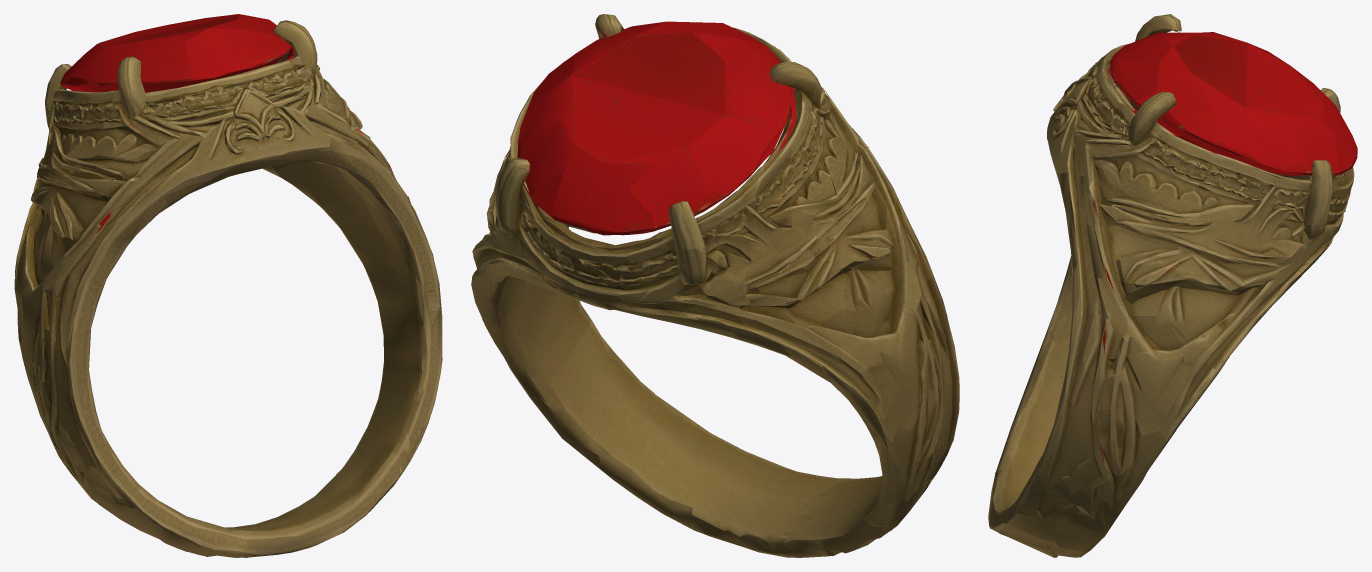
Rendered from flame_ring.fbx.
3 views of the same model, side by side, from view 1: azimuth 30°, elevation 25°; view 2: azimuth 150°, elevation 25°; view 3: azimuth 270°, elevation 25° (orthographic). The views are drawn at different scales.
Parts seen in each view (by area): view 1: flame_ring; view 2: flame_ring; view 3: flame_ring.
Boxes of the visible parts, x1=… form: flame_ring: x1=14, y1=14, x2=442, y2=557; flame_ring: x1=471, y1=14, x2=959, y2=557; flame_ring: x1=988, y1=14, x2=1357, y2=557.
Size of the model in its own units: 0.5742 by 0.7006 by 0.4768.
Materials: 1 (1 with a texture image).
